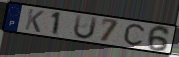1: (49, 11, 62, 36)
6: (146, 24, 172, 52)
7: (99, 17, 121, 43)
C: (123, 23, 146, 47)
K: (23, 7, 46, 34)
U: (72, 14, 99, 41)
